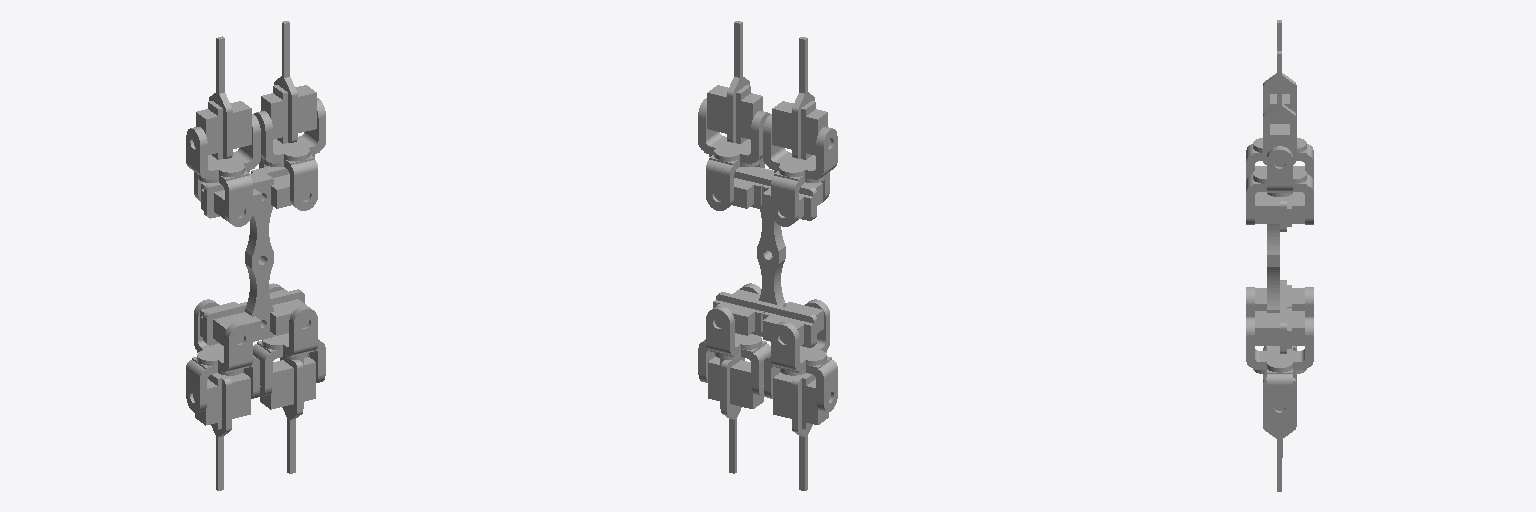
The robot description file, URDF, robot "spiderV3C_clear":
<?xml version="1.0" ?>
<!-- =================================================================================== -->
<!-- |    This document was autogenerated by xacro from urdf\spiderV3C_clear.xacro.temp | -->
<!-- |    EDITING THIS FILE BY HAND IS NOT RECOMMENDED                                 | -->
<!-- =================================================================================== -->
<robot xmlns:xacro="http://www.ros.org/wiki/xacro" name="spiderV3C_clear">
  <material name="silver">
    <color rgba="0.700 0.700 0.700 1.000"/>
  </material>
  <transmission name="Revolute 1_tran">
    <type>transmission_interface/SimpleTransmission</type>
    <joint name="Revolute 1">
      <hardwareInterface>hardware_interface/EffortJointInterface</hardwareInterface>
    </joint>
    <actuator name="Revolute 1_actr">
      <hardwareInterface>hardware_interface/EffortJointInterface</hardwareInterface>
      <mechanicalReduction>1</mechanicalReduction>
    </actuator>
  </transmission>
  <transmission name="Revolute 2_tran">
    <type>transmission_interface/SimpleTransmission</type>
    <joint name="Revolute 2">
      <hardwareInterface>hardware_interface/EffortJointInterface</hardwareInterface>
    </joint>
    <actuator name="Revolute 2_actr">
      <hardwareInterface>hardware_interface/EffortJointInterface</hardwareInterface>
      <mechanicalReduction>1</mechanicalReduction>
    </actuator>
  </transmission>
  <transmission name="Revolute 3_tran">
    <type>transmission_interface/SimpleTransmission</type>
    <joint name="Revolute 3">
      <hardwareInterface>hardware_interface/EffortJointInterface</hardwareInterface>
    </joint>
    <actuator name="Revolute 3_actr">
      <hardwareInterface>hardware_interface/EffortJointInterface</hardwareInterface>
      <mechanicalReduction>1</mechanicalReduction>
    </actuator>
  </transmission>
  <transmission name="Revolute 4_tran">
    <type>transmission_interface/SimpleTransmission</type>
    <joint name="Revolute 4">
      <hardwareInterface>hardware_interface/EffortJointInterface</hardwareInterface>
    </joint>
    <actuator name="Revolute 4_actr">
      <hardwareInterface>hardware_interface/EffortJointInterface</hardwareInterface>
      <mechanicalReduction>1</mechanicalReduction>
    </actuator>
  </transmission>
  <transmission name="Revolute 5_tran">
    <type>transmission_interface/SimpleTransmission</type>
    <joint name="Revolute 5">
      <hardwareInterface>hardware_interface/EffortJointInterface</hardwareInterface>
    </joint>
    <actuator name="Revolute 5_actr">
      <hardwareInterface>hardware_interface/EffortJointInterface</hardwareInterface>
      <mechanicalReduction>1</mechanicalReduction>
    </actuator>
  </transmission>
  <transmission name="Revolute 6_tran">
    <type>transmission_interface/SimpleTransmission</type>
    <joint name="Revolute 6">
      <hardwareInterface>hardware_interface/EffortJointInterface</hardwareInterface>
    </joint>
    <actuator name="Revolute 6_actr">
      <hardwareInterface>hardware_interface/EffortJointInterface</hardwareInterface>
      <mechanicalReduction>1</mechanicalReduction>
    </actuator>
  </transmission>
  <transmission name="Revolute 7_tran">
    <type>transmission_interface/SimpleTransmission</type>
    <joint name="Revolute 7">
      <hardwareInterface>hardware_interface/EffortJointInterface</hardwareInterface>
    </joint>
    <actuator name="Revolute 7_actr">
      <hardwareInterface>hardware_interface/EffortJointInterface</hardwareInterface>
      <mechanicalReduction>1</mechanicalReduction>
    </actuator>
  </transmission>
  <transmission name="Revolute 8_tran">
    <type>transmission_interface/SimpleTransmission</type>
    <joint name="Revolute 8">
      <hardwareInterface>hardware_interface/EffortJointInterface</hardwareInterface>
    </joint>
    <actuator name="Revolute 8_actr">
      <hardwareInterface>hardware_interface/EffortJointInterface</hardwareInterface>
      <mechanicalReduction>1</mechanicalReduction>
    </actuator>
  </transmission>
  <!-- omitted .gazebo include -->
  <link name="base_link">
    <inertial>
      <origin xyz="1.0872043557683421e-12 0.03772456007506391 -9.76875493552546e-11" rpy="0 0 0"/>
      <mass value="0.38585922265788586"/>
      <inertia ixx="0.000601" iyy="0.000686" izz="0.000132" ixy="0.0" iyz="-0.0" ixz="-2e-06"/>
    </inertial>
    <visual>
      <origin xyz="0 0 0" rpy="0 0 0"/>
      <geometry>
        <mesh filename="package://spiderV3C_clear_description/meshes/base_link.stl" scale="0.001 0.001 0.001"/>
      </geometry>
      <material name="silver"/>
    </visual>
    <collision>
      <origin xyz="0 0 0" rpy="0 0 0"/>
      <geometry>
        <mesh filename="package://spiderV3C_clear_description/meshes/base_link.stl" scale="0.001 0.001 0.001"/>
      </geometry>
    </collision>
  </link>
  <link name="shelfCom_clear_onePart3B_v1_1">
    <inertial>
      <origin xyz="1.282220926688421e-06 -4.917382889768618e-10 0.020000464804861617" rpy="0 0 0"/>
      <mass value="0.10441449723026225"/>
      <inertia ixx="2.7e-05" iyy="2.7e-05" izz="2.5e-05" ixy="-0.0" iyz="0.0" ixz="0.0"/>
    </inertial>
    <visual>
      <origin xyz="-0.021659 -0.038 -0.040055" rpy="0 0 0"/>
      <geometry>
        <mesh filename="package://spiderV3C_clear_description/meshes/shelfCom_clear_onePart3B_v1_1.stl" scale="0.001 0.001 0.001"/>
      </geometry>
      <material name="silver"/>
    </visual>
    <collision>
      <origin xyz="-0.021659 -0.038 -0.040055" rpy="0 0 0"/>
      <geometry>
        <mesh filename="package://spiderV3C_clear_description/meshes/shelfCom_clear_onePart3B_v1_1.stl" scale="0.001 0.001 0.001"/>
      </geometry>
    </collision>
  </link>
  <link name="shelfCom_clear_onePart3B_v1__1__1">
    <inertial>
      <origin xyz="1.2822209267022988e-06 -4.917383306102252e-10 0.020000464983675574" rpy="0 0 0"/>
      <mass value="0.10441449723026225"/>
      <inertia ixx="2.7e-05" iyy="2.7e-05" izz="2.5e-05" ixy="-0.0" iyz="0.0" ixz="0.0"/>
    </inertial>
    <visual>
      <origin xyz="0.021341 -0.038 -0.040055" rpy="0 0 0"/>
      <geometry>
        <mesh filename="package://spiderV3C_clear_description/meshes/shelfCom_clear_onePart3B_v1__1__1.stl" scale="0.001 0.001 0.001"/>
      </geometry>
      <material name="silver"/>
    </visual>
    <collision>
      <origin xyz="0.021341 -0.038 -0.040055" rpy="0 0 0"/>
      <geometry>
        <mesh filename="package://spiderV3C_clear_description/meshes/shelfCom_clear_onePart3B_v1__1__1.stl" scale="0.001 0.001 0.001"/>
      </geometry>
    </collision>
  </link>
  <link name="shelfCom_clear_onePart3B_v1__2__1">
    <inertial>
      <origin xyz="-1.2822209267300544e-06 -4.917382820379679e-10 -0.020000464804861562" rpy="0 0 0"/>
      <mass value="0.10441449723026225"/>
      <inertia ixx="2.7e-05" iyy="2.7e-05" izz="2.5e-05" ixy="0.0" iyz="-0.0" ixz="-0.0"/>
    </inertial>
    <visual>
      <origin xyz="0.021659 -0.038 0.040055" rpy="0 0 0"/>
      <geometry>
        <mesh filename="package://spiderV3C_clear_description/meshes/shelfCom_clear_onePart3B_v1__2__1.stl" scale="0.001 0.001 0.001"/>
      </geometry>
      <material name="silver"/>
    </visual>
    <collision>
      <origin xyz="0.021659 -0.038 0.040055" rpy="0 0 0"/>
      <geometry>
        <mesh filename="package://spiderV3C_clear_description/meshes/shelfCom_clear_onePart3B_v1__2__1.stl" scale="0.001 0.001 0.001"/>
      </geometry>
    </collision>
  </link>
  <link name="shelfCom_clear_onePart3B_v1__3__1">
    <inertial>
      <origin xyz="6.451693708095507e-07 -4.917383028546496e-10 -0.020000464983675525" rpy="0 0 0"/>
      <mass value="0.10441449723026225"/>
      <inertia ixx="2.7e-05" iyy="2.7e-05" izz="2.5e-05" ixy="0.0" iyz="0.0" ixz="-0.0"/>
    </inertial>
    <visual>
      <origin xyz="-0.021341 -0.038 0.040055" rpy="0 0 0"/>
      <geometry>
        <mesh filename="package://spiderV3C_clear_description/meshes/shelfCom_clear_onePart3B_v1__3__1.stl" scale="0.001 0.001 0.001"/>
      </geometry>
      <material name="silver"/>
    </visual>
    <collision>
      <origin xyz="-0.021341 -0.038 0.040055" rpy="0 0 0"/>
      <geometry>
        <mesh filename="package://spiderV3C_clear_description/meshes/shelfCom_clear_onePart3B_v1__3__1.stl" scale="0.001 0.001 0.001"/>
      </geometry>
    </collision>
  </link>
  <link name="Motorfoot_clearB_v1_1">
    <inertial>
      <origin xyz="-0.0005548861990964382 -0.004104756311087046 0.005767863519832106" rpy="0 0 0"/>
      <mass value="0.08632102355113754"/>
      <inertia ixx="1.2e-05" iyy="1.3e-05" izz="1e-05" ixy="-0.0" iyz="4e-06" ixz="0.0"/>
    </inertial>
    <visual>
      <origin xyz="-0.02166 -0.037999 -0.080055" rpy="0 0 0"/>
      <geometry>
        <mesh filename="package://spiderV3C_clear_description/meshes/Motorfoot_clearB_v1_1.stl" scale="0.001 0.001 0.001"/>
      </geometry>
      <material name="silver"/>
    </visual>
    <collision>
      <origin xyz="-0.02166 -0.037999 -0.080055" rpy="0 0 0"/>
      <geometry>
        <mesh filename="package://spiderV3C_clear_description/meshes/Motorfoot_clearB_v1_1.stl" scale="0.001 0.001 0.001"/>
      </geometry>
    </collision>
  </link>
  <link name="Motorfoot_clearB_v1__1__1">
    <inertial>
      <origin xyz="-0.0005548861990964278 -0.004104756311087088 0.005767863698645959" rpy="0 0 0"/>
      <mass value="0.08632102355113754"/>
      <inertia ixx="1.2e-05" iyy="1.3e-05" izz="1e-05" ixy="-0.0" iyz="4e-06" ixz="0.0"/>
    </inertial>
    <visual>
      <origin xyz="0.02134 -0.037999 -0.080055" rpy="0 0 0"/>
      <geometry>
        <mesh filename="package://spiderV3C_clear_description/meshes/Motorfoot_clearB_v1__1__1.stl" scale="0.001 0.001 0.001"/>
      </geometry>
      <material name="silver"/>
    </visual>
    <collision>
      <origin xyz="0.02134 -0.037999 -0.080055" rpy="0 0 0"/>
      <geometry>
        <mesh filename="package://spiderV3C_clear_description/meshes/Motorfoot_clearB_v1__1__1.stl" scale="0.001 0.001 0.001"/>
      </geometry>
    </collision>
  </link>
  <link name="Motorfoot_clearB_v1__2__1">
    <inertial>
      <origin xyz="0.0005548135893939481 -0.004104756311087074 -0.005767863698645986" rpy="0 0 0"/>
      <mass value="0.08632102355113754"/>
      <inertia ixx="1.2e-05" iyy="1.3e-05" izz="1e-05" ixy="0.0" iyz="-4e-06" ixz="0.0"/>
    </inertial>
    <visual>
      <origin xyz="-0.021342 -0.037999 0.080055" rpy="0 0 0"/>
      <geometry>
        <mesh filename="package://spiderV3C_clear_description/meshes/Motorfoot_clearB_v1__2__1.stl" scale="0.001 0.001 0.001"/>
      </geometry>
      <material name="silver"/>
    </visual>
    <collision>
      <origin xyz="-0.021342 -0.037999 0.080055" rpy="0 0 0"/>
      <geometry>
        <mesh filename="package://spiderV3C_clear_description/meshes/Motorfoot_clearB_v1__2__1.stl" scale="0.001 0.001 0.001"/>
      </geometry>
    </collision>
  </link>
  <link name="Motorfoot_clearB_v1__3__1">
    <inertial>
      <origin xyz="-0.0005554506409498755 -0.004015624329770193 -0.005830274405045688" rpy="0 0 0"/>
      <mass value="0.08632102355113754"/>
      <inertia ixx="1.2e-05" iyy="1.3e-05" izz="1e-05" ixy="-0.0" iyz="-4e-06" ixz="-0.0"/>
    </inertial>
    <visual>
      <origin xyz="0.02166 -0.037999 0.080055" rpy="0 0 0"/>
      <geometry>
        <mesh filename="package://spiderV3C_clear_description/meshes/Motorfoot_clearB_v1__3__1.stl" scale="0.001 0.001 0.001"/>
      </geometry>
      <material name="silver"/>
    </visual>
    <collision>
      <origin xyz="0.02166 -0.037999 0.080055" rpy="0 0 0"/>
      <geometry>
        <mesh filename="package://spiderV3C_clear_description/meshes/Motorfoot_clearB_v1__3__1.stl" scale="0.001 0.001 0.001"/>
      </geometry>
    </collision>
  </link>
  <joint name="Revolute 1" type="revolute">
    <origin xyz="0.021659 0.038 0.040055" rpy="0 0 0"/>
    <parent link="base_link"/>
    <child link="shelfCom_clear_onePart3B_v1_1"/>
    <axis xyz="0.0 1.0 -0.0"/>
    <limit upper="2.094395" lower="0.0" effort="100" velocity="100"/>
  </joint>
  <joint name="Revolute 2" type="revolute">
    <origin xyz="-0.021341 0.038 0.040055" rpy="0 0 0"/>
    <parent link="base_link"/>
    <child link="shelfCom_clear_onePart3B_v1__1__1"/>
    <axis xyz="0.0 -1.0 -0.0"/>
    <limit upper="2.094395" lower="0.0" effort="100" velocity="100"/>
  </joint>
  <joint name="Revolute 3" type="revolute">
    <origin xyz="-0.021659 0.038 -0.040055" rpy="0 0 0"/>
    <parent link="base_link"/>
    <child link="shelfCom_clear_onePart3B_v1__2__1"/>
    <axis xyz="-0.0 1.0 0.0"/>
    <limit upper="2.094395" lower="0.0" effort="100" velocity="100"/>
  </joint>
  <joint name="Revolute 4" type="revolute">
    <origin xyz="0.021341 0.038 -0.040055" rpy="0 0 0"/>
    <parent link="base_link"/>
    <child link="shelfCom_clear_onePart3B_v1__3__1"/>
    <axis xyz="-0.0 -1.0 -0.0"/>
    <limit upper="2.094395" lower="0.0" effort="100" velocity="100"/>
  </joint>
  <joint name="Revolute 5" type="revolute">
    <origin xyz="1e-06 -1e-06 0.04" rpy="0 0 0"/>
    <parent link="shelfCom_clear_onePart3B_v1_1"/>
    <child link="Motorfoot_clearB_v1_1"/>
    <axis xyz="1.0 -0.0 0.0"/>
    <limit upper="1.745329" lower="0.0" effort="100" velocity="100"/>
  </joint>
  <joint name="Revolute 6" type="revolute">
    <origin xyz="1e-06 -1e-06 0.04" rpy="0 0 0"/>
    <parent link="shelfCom_clear_onePart3B_v1__1__1"/>
    <child link="Motorfoot_clearB_v1__1__1"/>
    <axis xyz="1.0 -0.0 0.0"/>
    <limit upper="1.745329" lower="0.0" effort="100" velocity="100"/>
  </joint>
  <joint name="Revolute 7" type="revolute">
    <origin xyz="1e-06 -1e-06 -0.04" rpy="0 0 0"/>
    <parent link="shelfCom_clear_onePart3B_v1__3__1"/>
    <child link="Motorfoot_clearB_v1__2__1"/>
    <axis xyz="-1.0 -0.0 0.0"/>
    <limit upper="1.745329" lower="0.0" effort="100" velocity="100"/>
  </joint>
  <joint name="Revolute 8" type="revolute">
    <origin xyz="-1e-06 -1e-06 -0.04" rpy="0 0 0"/>
    <parent link="shelfCom_clear_onePart3B_v1__2__1"/>
    <child link="Motorfoot_clearB_v1__3__1"/>
    <axis xyz="-1.0 -0.0 0.0"/>
    <limit upper="1.745329" lower="0.0" effort="100" velocity="100"/>
  </joint>
</robot>

--- Facts derived from the render (not from the file) ---
Views: 3 orthographic renders of the robot side by side, from view 1: azimuth 30°, elevation 25°; view 2: azimuth 150°, elevation 25°; view 3: azimuth 270°, elevation 25°.
Model spiderV3C_clear with 9 links and 8 joints (8 revolute), rooted at base_link, posed every joint at zero.
Visible links, largest first — view 1: base_link, shelfCom_clear_onePart3B_v1__1__1, shelfCom_clear_onePart3B_v1__2__1, shelfCom_clear_onePart3B_v1_1, Motorfoot_clearB_v1__1__1, Motorfoot_clearB_v1_1, shelfCom_clear_onePart3B_v1__3__1, Motorfoot_clearB_v1__2__1, Motorfoot_clearB_v1__3__1; view 2: base_link, shelfCom_clear_onePart3B_v1__1__1, shelfCom_clear_onePart3B_v1__2__1, shelfCom_clear_onePart3B_v1_1, Motorfoot_clearB_v1__1__1, shelfCom_clear_onePart3B_v1__3__1, Motorfoot_clearB_v1_1, Motorfoot_clearB_v1__3__1, Motorfoot_clearB_v1__2__1; view 3: base_link, shelfCom_clear_onePart3B_v1__3__1, shelfCom_clear_onePart3B_v1_1, Motorfoot_clearB_v1_1, Motorfoot_clearB_v1__2__1, Motorfoot_clearB_v1__1__1, shelfCom_clear_onePart3B_v1__1__1, shelfCom_clear_onePart3B_v1__2__1.
Link boxes in pixels (box(x1,y1,x2,y2)): base_link: box(200, 166, 309, 345); shelfCom_clear_onePart3B_v1__1__1: box(186, 114, 260, 226); shelfCom_clear_onePart3B_v1__2__1: box(186, 299, 259, 412); shelfCom_clear_onePart3B_v1_1: box(254, 98, 325, 210); Motorfoot_clearB_v1__1__1: box(193, 36, 251, 159); Motorfoot_clearB_v1_1: box(259, 21, 316, 143); shelfCom_clear_onePart3B_v1__3__1: box(253, 283, 325, 396); Motorfoot_clearB_v1__2__1: box(260, 357, 315, 473); Motorfoot_clearB_v1__3__1: box(193, 373, 250, 490); base_link: box(713, 167, 823, 347); shelfCom_clear_onePart3B_v1__1__1: box(763, 114, 837, 226); shelfCom_clear_onePart3B_v1__2__1: box(764, 299, 837, 412); shelfCom_clear_onePart3B_v1_1: box(698, 98, 769, 210); Motorfoot_clearB_v1__1__1: box(772, 37, 830, 159); shelfCom_clear_onePart3B_v1__3__1: box(698, 283, 770, 396); Motorfoot_clearB_v1_1: box(707, 21, 764, 143); Motorfoot_clearB_v1__3__1: box(773, 372, 830, 490); Motorfoot_clearB_v1__2__1: box(708, 356, 763, 473); base_link: box(1255, 166, 1304, 353); shelfCom_clear_onePart3B_v1__3__1: box(1246, 317, 1313, 420); shelfCom_clear_onePart3B_v1_1: box(1246, 146, 1313, 224); Motorfoot_clearB_v1_1: box(1263, 51, 1296, 166); Motorfoot_clearB_v1__2__1: box(1263, 377, 1296, 491); Motorfoot_clearB_v1__1__1: box(1263, 20, 1296, 115); shelfCom_clear_onePart3B_v1__1__1: box(1246, 138, 1313, 179); shelfCom_clear_onePart3B_v1__2__1: box(1246, 287, 1313, 348).
Size in the robot's own frame: 0.0833 by 0.04 by 0.2851 metres.
Meshes: 9 distinct files referenced, 9 mesh visuals loaded (9 binary STL).